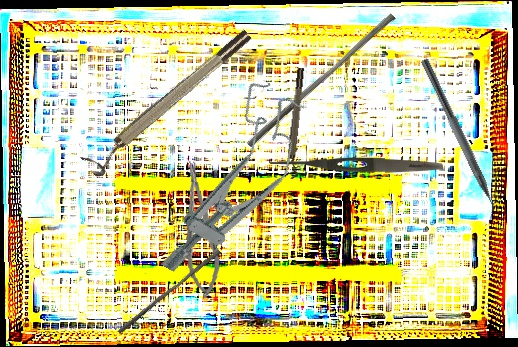Chopper: (409, 57, 507, 227)
Dressing Forceps: (268, 155, 444, 175)
Fixation Ring: (80, 26, 260, 180), (282, 67, 311, 180)
Needle Holder: (176, 159, 224, 300)
Pusher: (246, 7, 396, 154), (117, 245, 222, 339)
Speculum: (147, 75, 322, 296)
